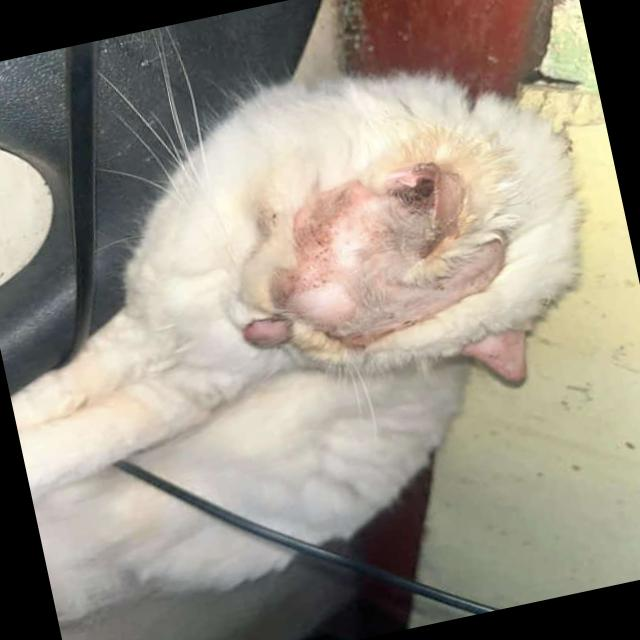Mange: (300, 195, 372, 267), (292, 275, 361, 330), (449, 239, 513, 292), (388, 272, 442, 326), (482, 331, 526, 373), (431, 173, 463, 210)
